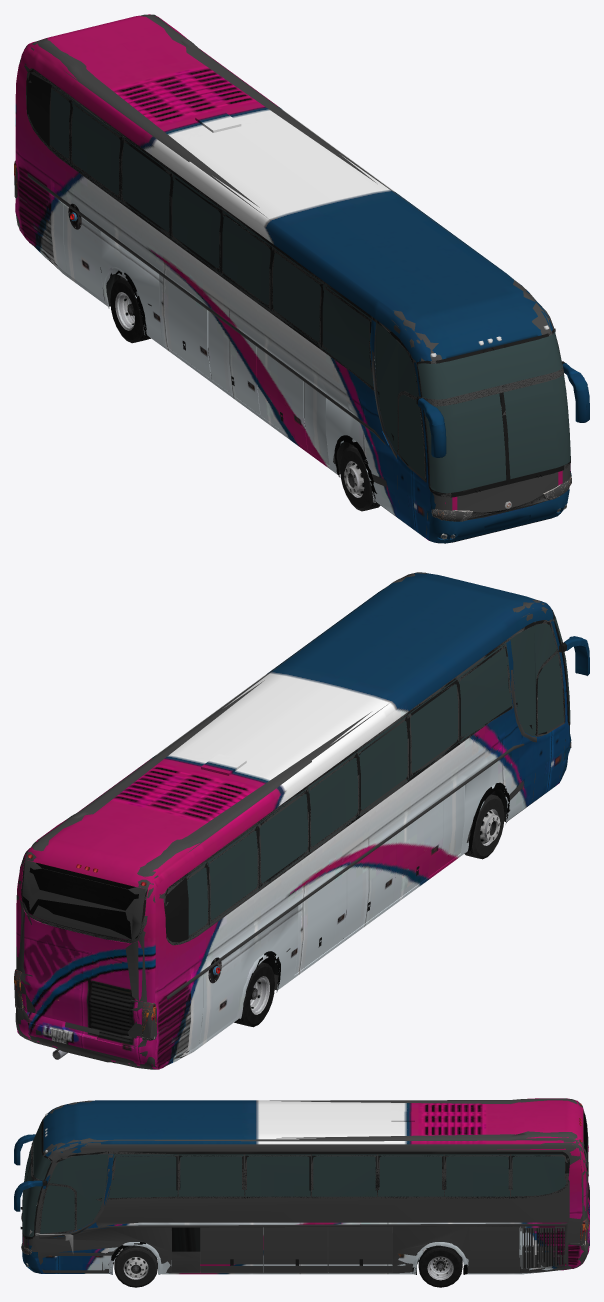
3 renders of one model, top to bottom at view 1: azimuth 30°, elevation 25°; view 2: azimuth 150°, elevation 25°; view 3: azimuth 270°, elevation 25°, orthographic. The views are drawn at different scales.
Visible parts, largest first — view 1: G6Pintura, Glass, G6Detalhes, Door, PneuTraseiro 1, PneuDianteiro2 1; view 2: G6Pintura, G6Detalhes, Glass, Door, PneuTraseiro 1, PneuDianteiro2 1; view 3: G6Detalhes, G6Pintura, Glass, PneuTraseiro, PneuDianteiro2.
Boxes of the visible parts, box(x1,y1,x2,y2) form: G6Pintura: box(15, 14, 589, 543); Glass: box(49, 85, 570, 493); G6Detalhes: box(14, 14, 571, 543); Door: box(397, 391, 427, 537); PneuTraseiro 1: box(110, 278, 150, 343); PneuDianteiro2 1: box(340, 446, 380, 511); G6Pintura: box(16, 572, 589, 1069); G6Detalhes: box(14, 572, 571, 1069); Glass: box(186, 615, 570, 938); Door: box(532, 650, 565, 802); PneuTraseiro 1: box(234, 962, 274, 1027); PneuDianteiro2 1: box(464, 794, 504, 859); G6Detalhes: box(20, 1098, 589, 1273); G6Pintura: box(14, 1098, 589, 1274); Glass: box(22, 1120, 566, 1236); PneuTraseiro: box(418, 1245, 462, 1287); PneuDianteiro2: box(114, 1245, 157, 1287).
Bounding box in the file's own units: 18.61 × 25.98 × 89.82.
Materials: 15 (13 with a texture image).
